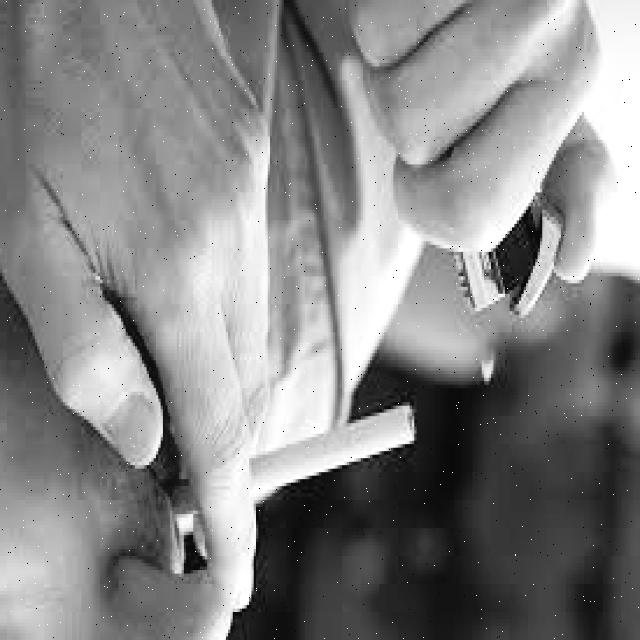api: (474, 351, 511, 403)
